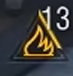1fire: (7, 34, 69, 64)
